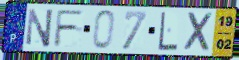0: (91, 8, 119, 51)
7: (124, 10, 149, 51)
F: (52, 9, 86, 48)
L: (157, 11, 179, 52)
N: (25, 8, 55, 49)
X: (183, 11, 216, 53)
